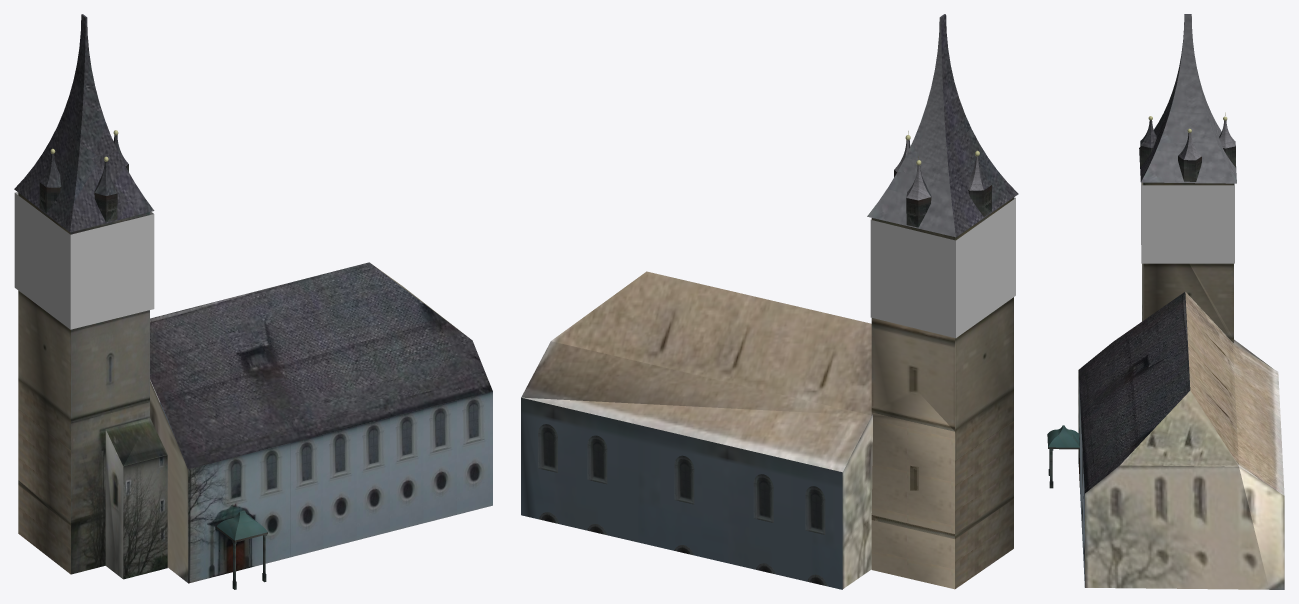
File: church2.dae
The picture shows the model from 3 angles, left to right: view 1: azimuth 30°, elevation 25°; view 2: azimuth 150°, elevation 25°; view 3: azimuth 270°, elevation 25°; orthographic projection. The views are drawn at different scales.
Visible parts, largest first — view 1: group_0_016, Cube; view 2: group_0_016, Cube; view 3: group_0_016, Cube.
Boxes of the visible parts, box(x1,y1,x2,y2) form: group_0_016: box(14, 14, 492, 589); Cube: box(14, 192, 154, 329); group_0_016: box(521, 14, 1018, 589); Cube: box(870, 197, 1015, 338); group_0_016: box(1047, 14, 1284, 589); Cube: box(1141, 182, 1234, 263).
Size of the model in its own units: 0.1619 by 0.1022 by 0.2066.
Materials: 41 (36 with a texture image).
